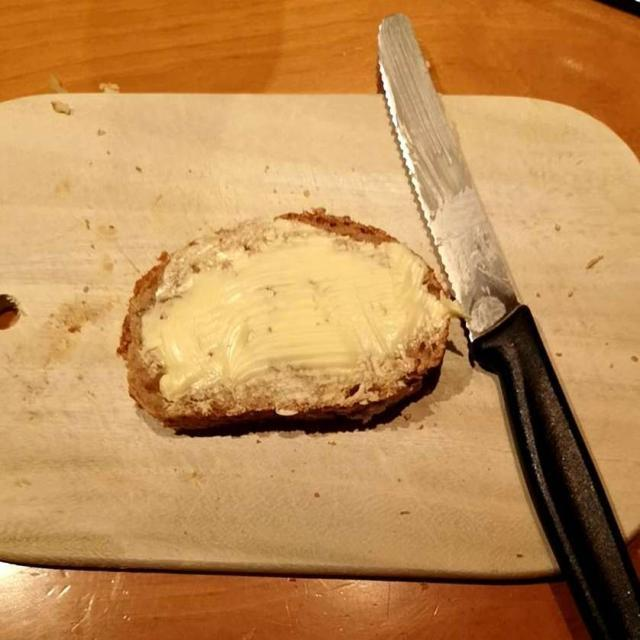bread: (126, 213, 442, 428)
butter: (159, 234, 449, 394)
